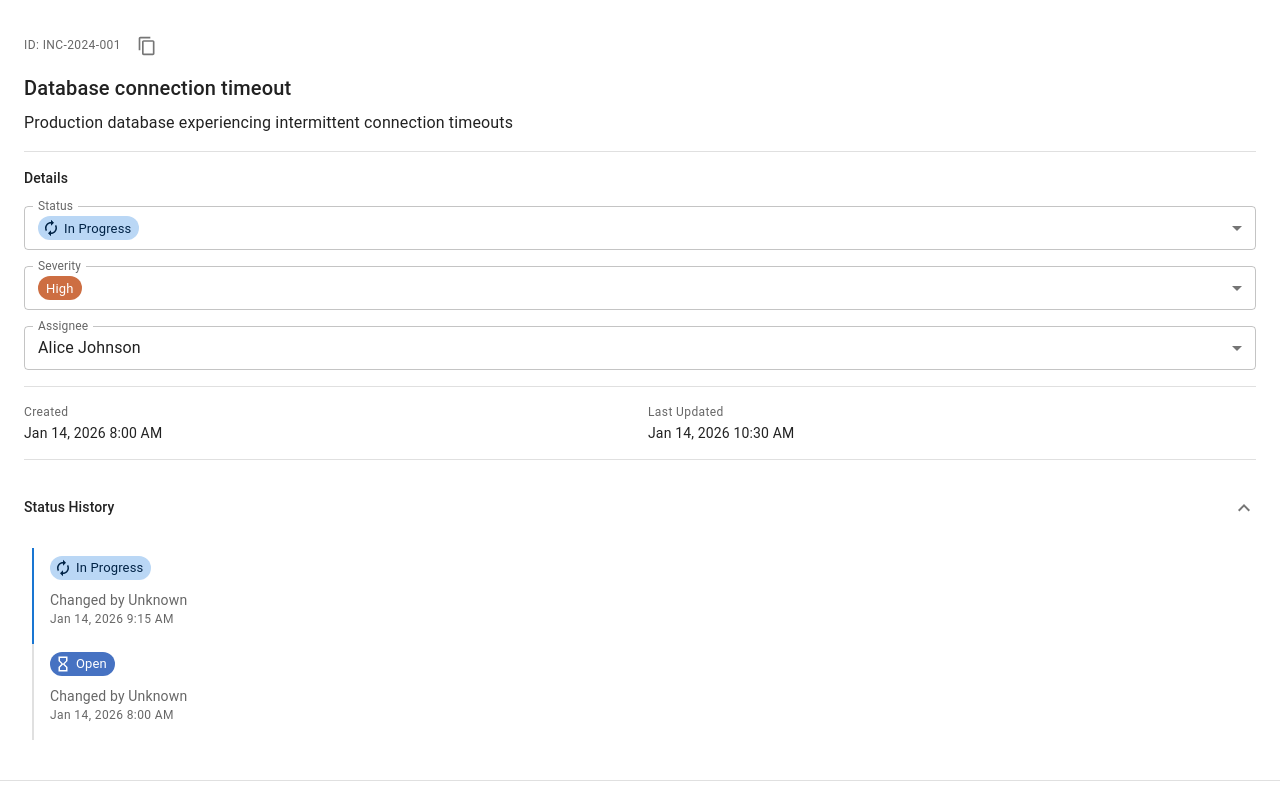
Test: Detail Panel UX Integration Tests › User Story 3: Chips Displayed in Select Dropdowns › displays severity chip in dropdown menu
The image size is (1280, 797).
Click the dropdown named "severity" at (60, 288), box [38,276,82,300]
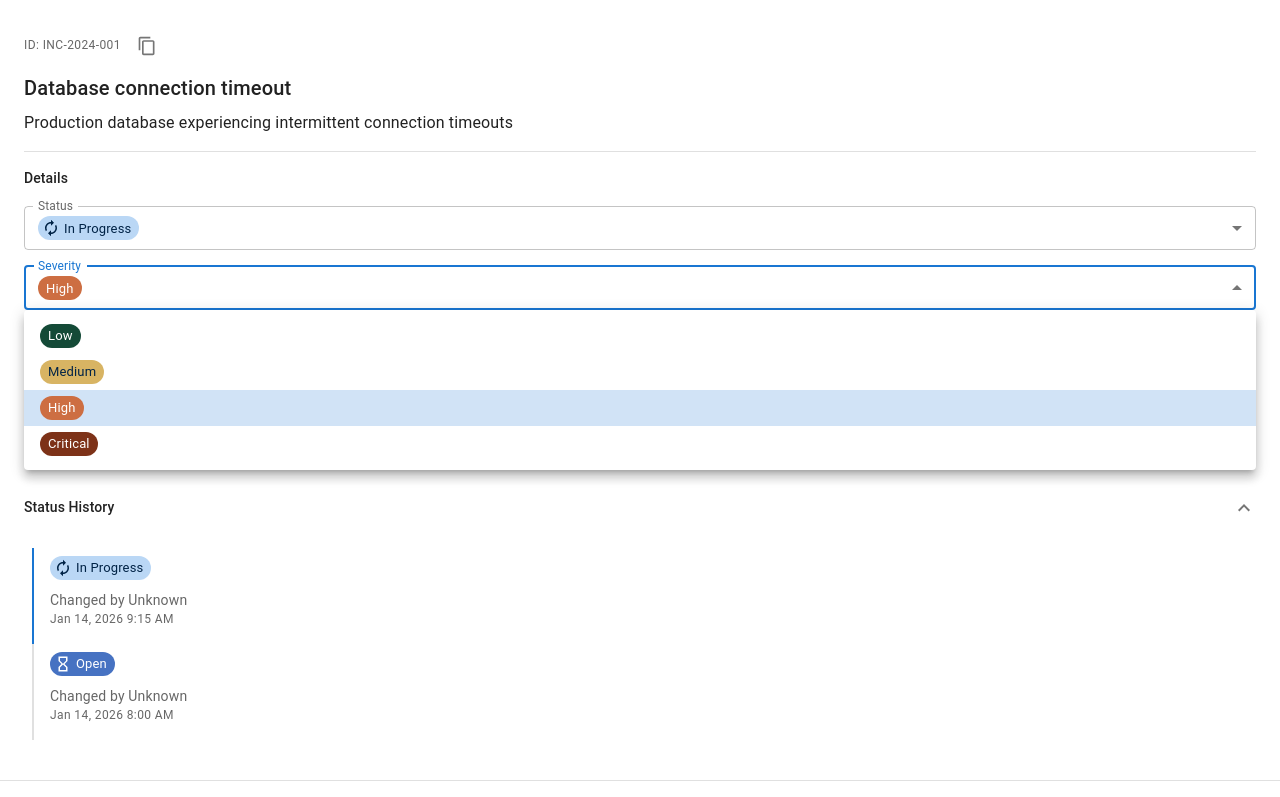
Expected: the number of options is 4, [40,324,81,348]; [40,360,104,384]; [24,390,1256,426]; [40,432,98,456]
Expected: the option "Low" is shown, [40,324,81,348]
Expected: the option "Medium" is shown, [40,360,104,384]
